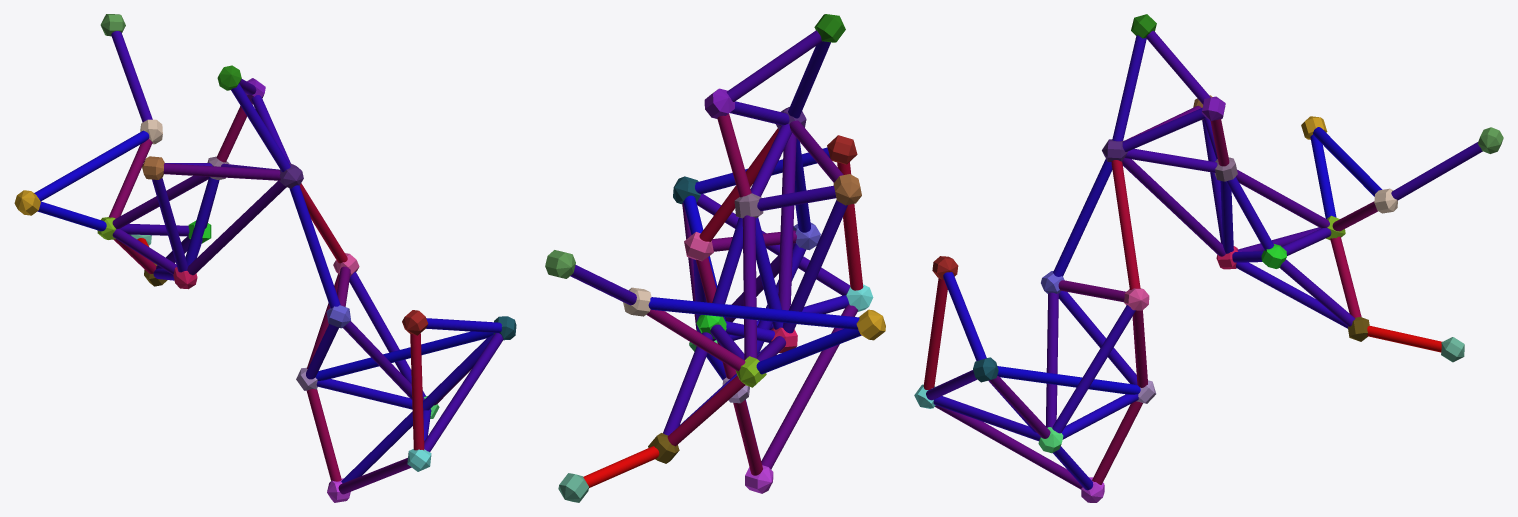
File: fg-00020-skel.obj
3 views of the same model, side by side, from view 1: azimuth 30°, elevation 25°; view 2: azimuth 150°, elevation 25°; view 3: azimuth 270°, elevation 25° (orthographic). The views are drawn at different scales.
Size of the model in its own units: 0.1462 by 0.1805 by 0.2176.
